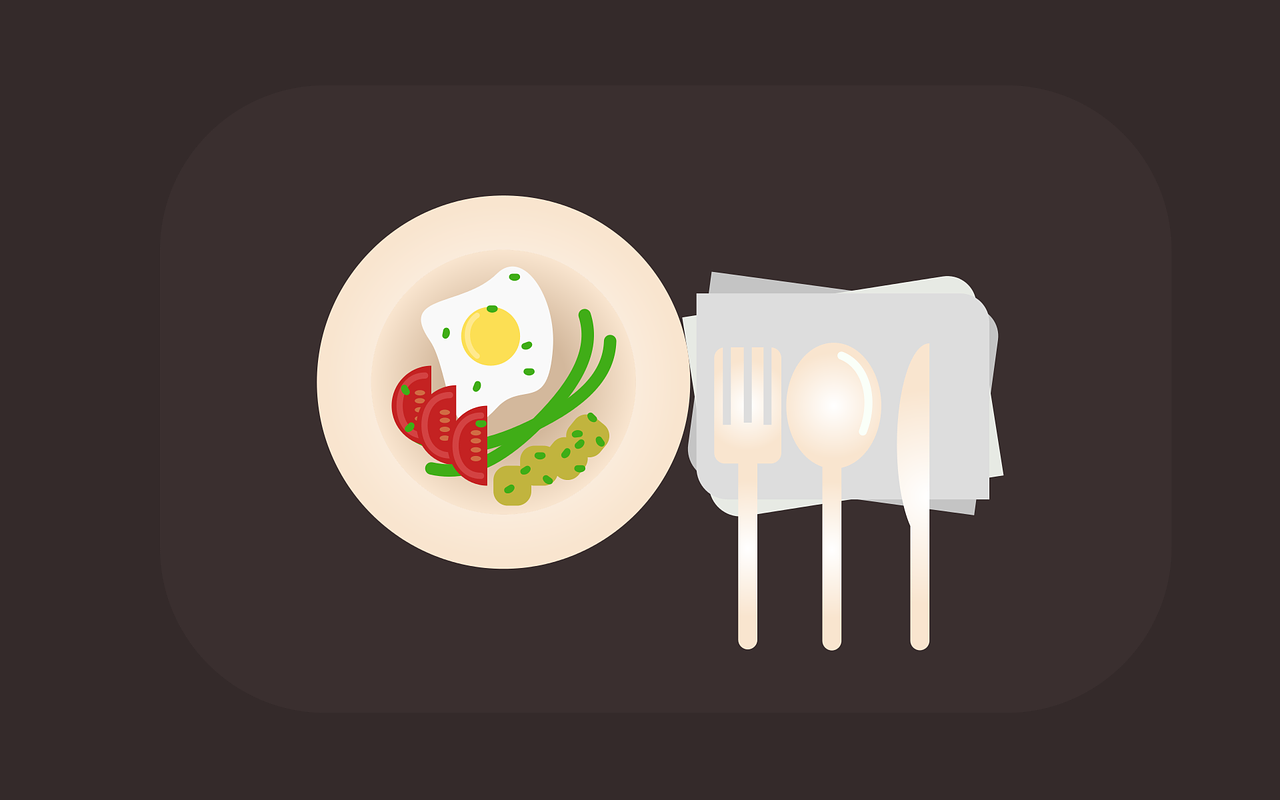knife: (890, 341, 942, 653)
